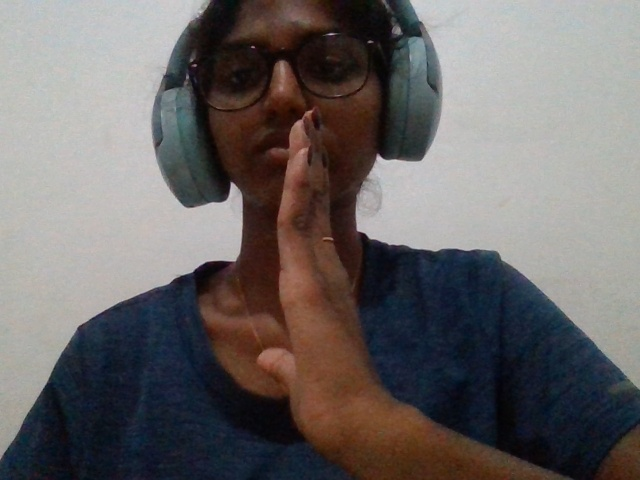Fine: (220, 90, 406, 471)
